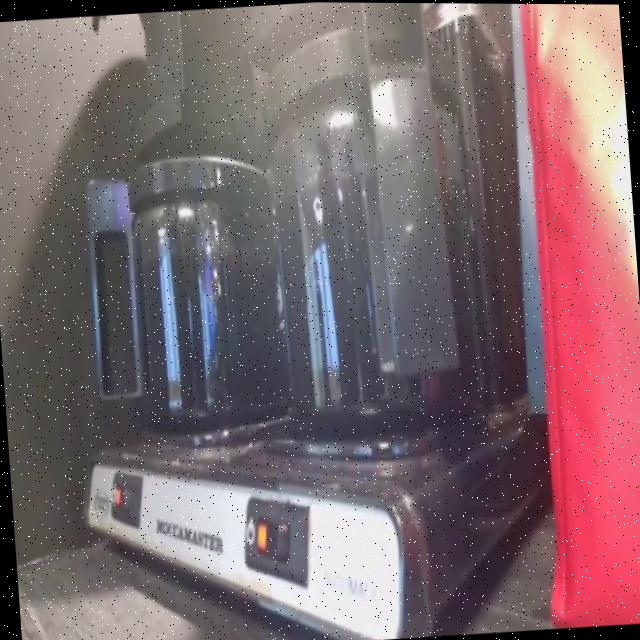coffee: (252, 14, 502, 451), (120, 143, 304, 444)
